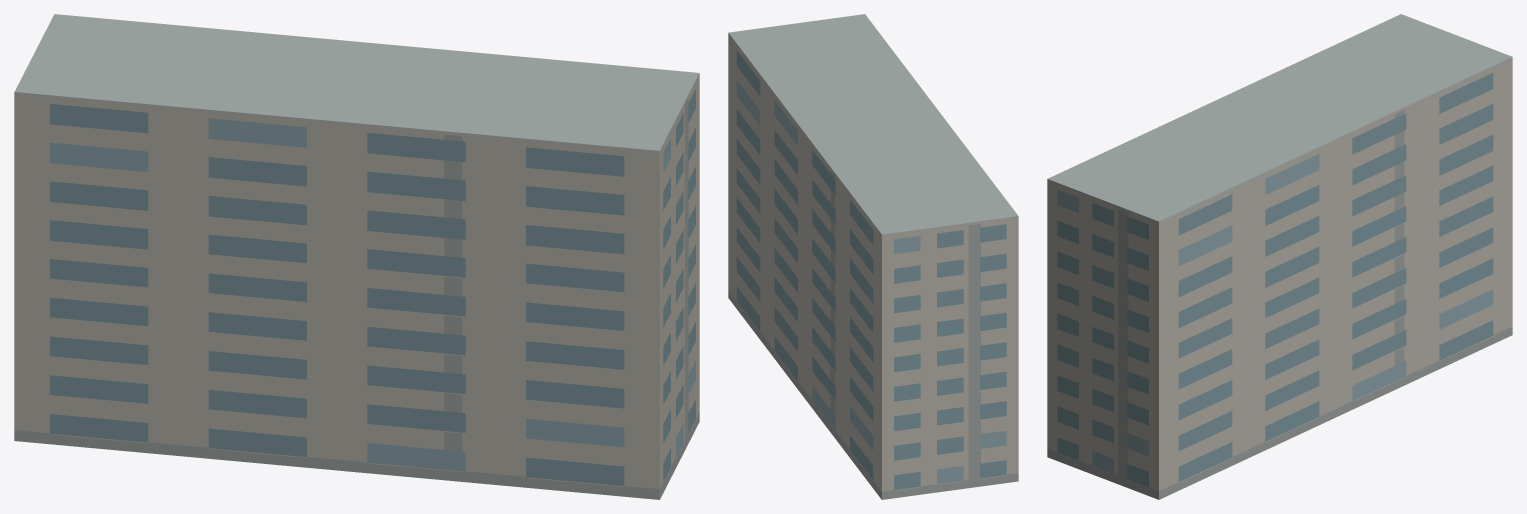
Rendered from residential-279f1ae6-9f63-4408-a7eb-6b52135785e7.glb.
The picture shows the model from 3 angles, left to right: view 1: azimuth 30°, elevation 25°; view 2: azimuth 150°, elevation 25°; view 3: azimuth 270°, elevation 25°; orthographic projection. The views are drawn at different scales.
Parts seen in each view (by area): view 1: residential-279f1ae6-9f63-4408-a7eb-6b52135785e7.tmp; view 2: residential-279f1ae6-9f63-4408-a7eb-6b52135785e7.tmp; view 3: residential-279f1ae6-9f63-4408-a7eb-6b52135785e7.tmp.
Part boxes in pixels (x1,y1,x2,y2): residential-279f1ae6-9f63-4408-a7eb-6b52135785e7.tmp: (14,14,699,499); residential-279f1ae6-9f63-4408-a7eb-6b52135785e7.tmp: (728,14,1018,499); residential-279f1ae6-9f63-4408-a7eb-6b52135785e7.tmp: (1047,14,1512,499).
Size of the model in its own units: 39.98 by 25 by 37.87.
